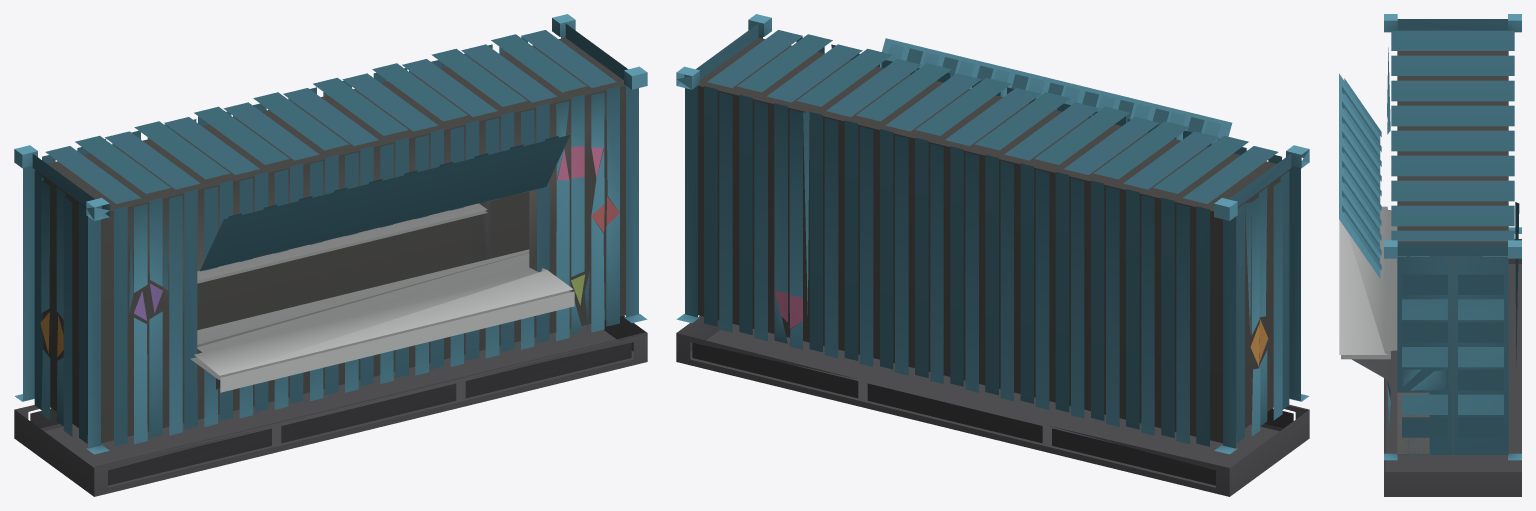
The model's file is snack.lod.glb.
The picture shows the model from 3 angles, left to right: view 1: azimuth 30°, elevation 25°; view 2: azimuth 150°, elevation 25°; view 3: azimuth 270°, elevation 25°; orthographic projection. The views are drawn at different scales.
Visible parts, largest first — view 1: snack; view 2: snack; view 3: snack.
Part boxes in pixels (x1,y1,x2,y2): snack: (14,14,647,496); snack: (676,14,1309,496); snack: (1339,14,1521,496).
Size of the model in its own units: 7.2 by 3.6 by 2.4.
